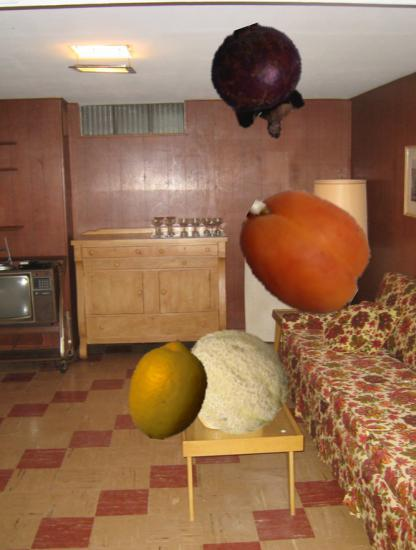Apricot: (237, 184, 371, 318)
Cantaloupe: (179, 325, 289, 435)
Lemon: (118, 339, 220, 441)
Mangostan: (203, 25, 319, 141)
